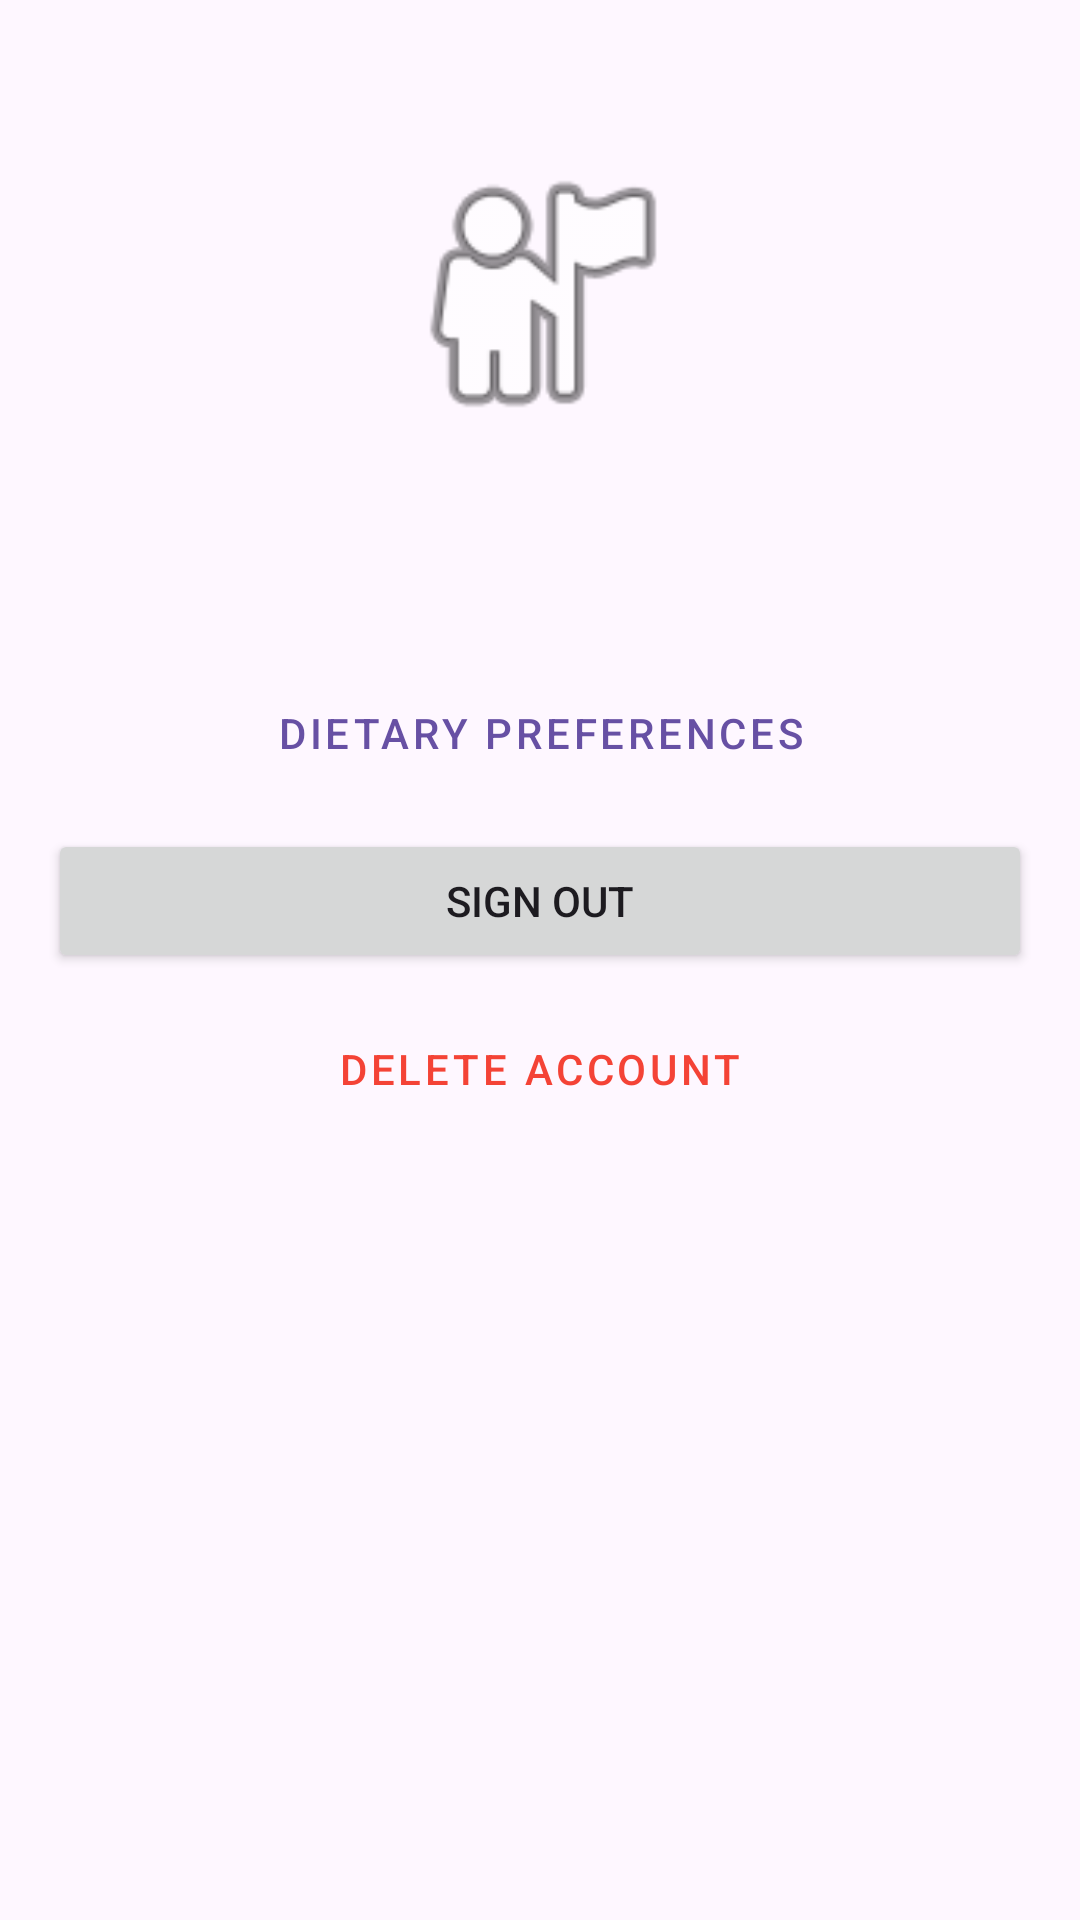

Named icons in this screenshot (1080px x 1920px) and their centers, (x=x, y=y):
Account: (x=543, y=294)
